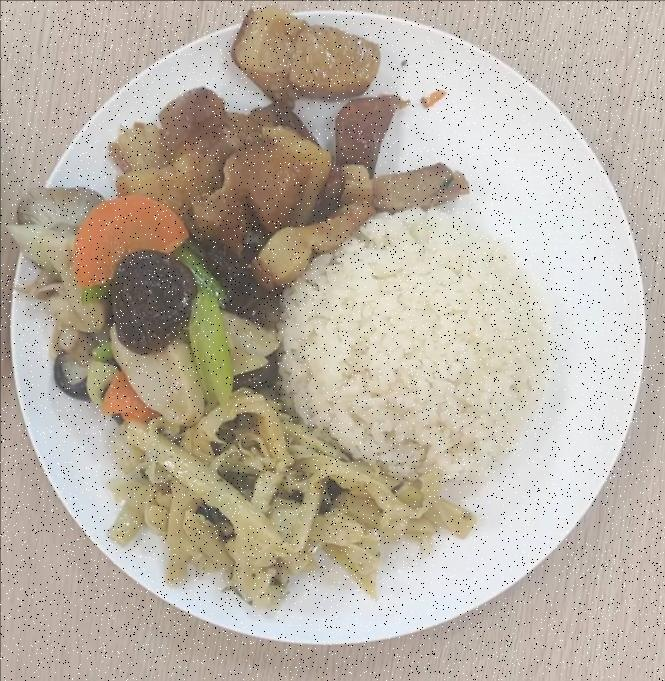braised pork: (107, 8, 462, 270)
plate: (14, 3, 654, 633)
side dish: (102, 400, 480, 604), (28, 186, 269, 419)
white rice: (268, 210, 540, 492)
